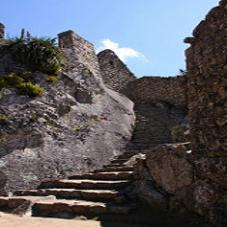Bench: (26, 141, 138, 216)
